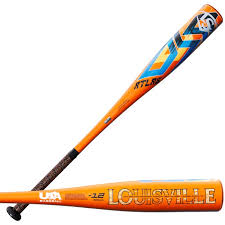baseball bat: (5, 3, 223, 222), (1, 177, 223, 212)
